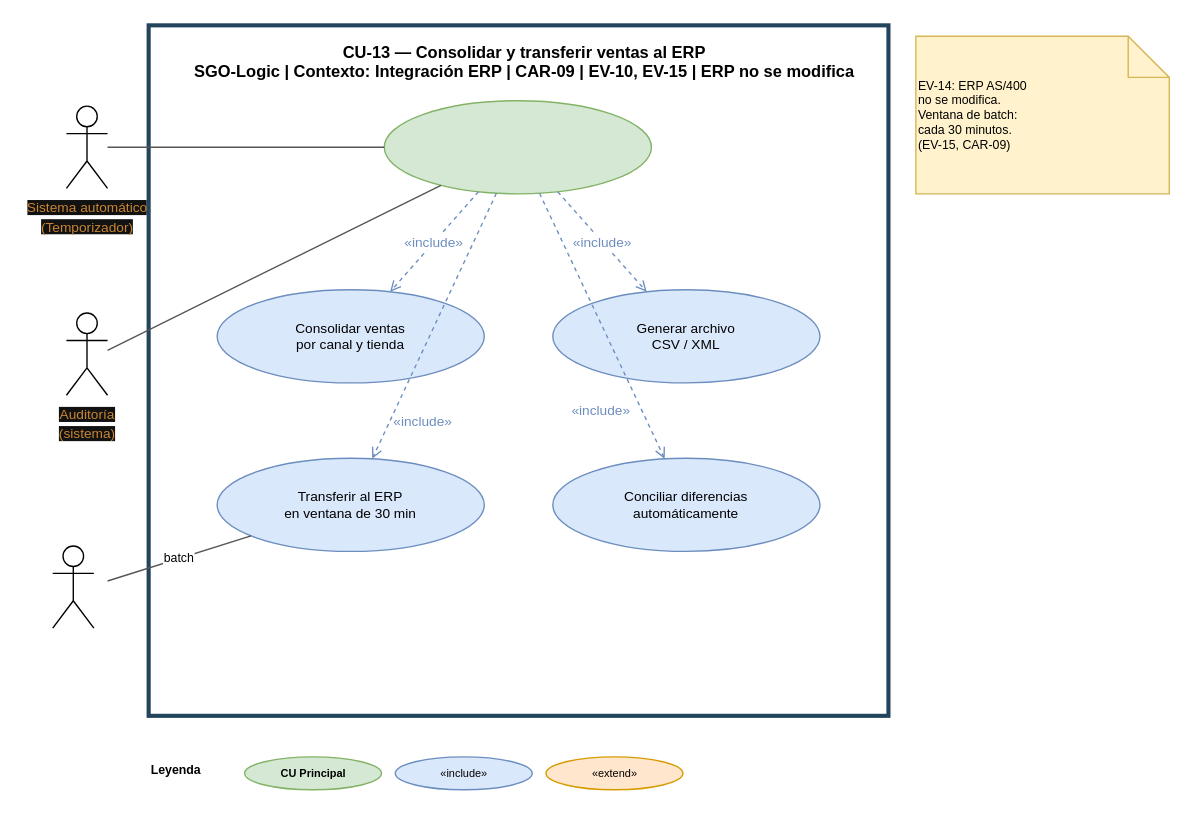
Image size: 1193x814. Some labels were removed from this diagram. Here are the shapes that lost their labels. From the top down, the box of each, then its label:
(383, 99, 651, 194): Consolidar y transferir ventas al ERP
(51, 545, 94, 628): ERP AS/400 (sistema legacy)
